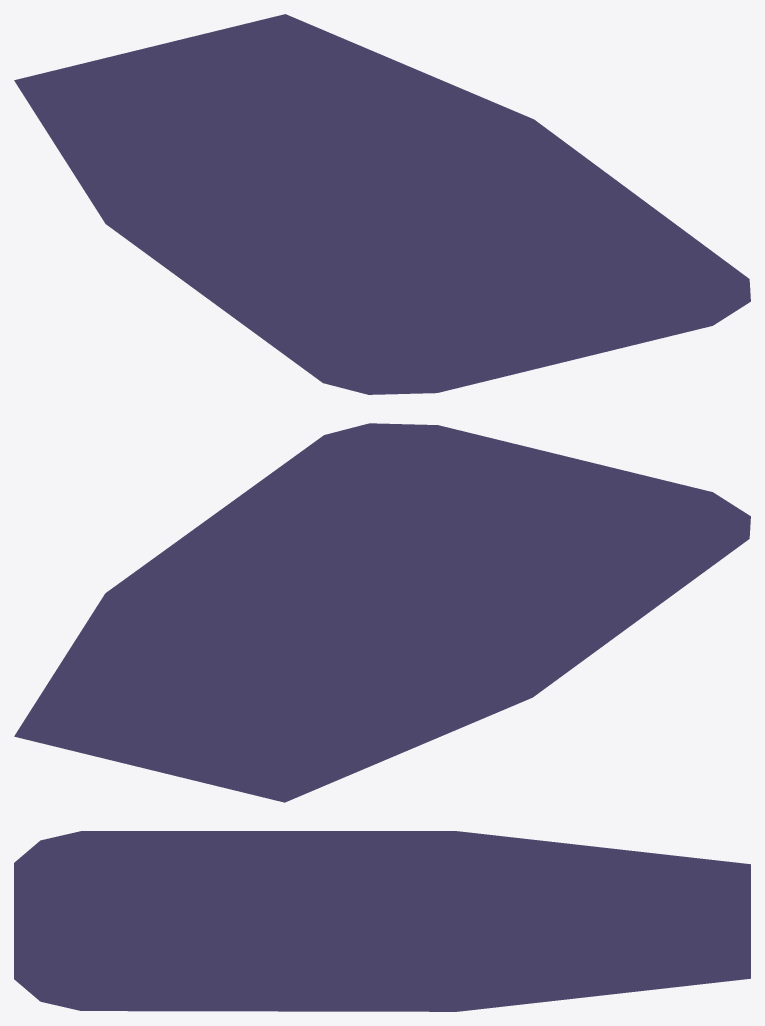
The model's file is Mh_Floor_01.fbx.
3 views of the same model, one above another, from view 1: azimuth 30°, elevation 25°; view 2: azimuth 150°, elevation 25°; view 3: azimuth 270°, elevation 25° (orthographic). The views are drawn at different scales.
Visible parts, largest first — view 1: Mh_Floor_01; view 2: Mh_Floor_01; view 3: Mh_Floor_01.
Part boxes in pixels (x1,y1,x2,y2): Mh_Floor_01: (14,14,750,394); Mh_Floor_01: (14,423,750,802); Mh_Floor_01: (14,831,750,1011).
Bounding box in the file's own units: 2009 × 0 × 3462.
